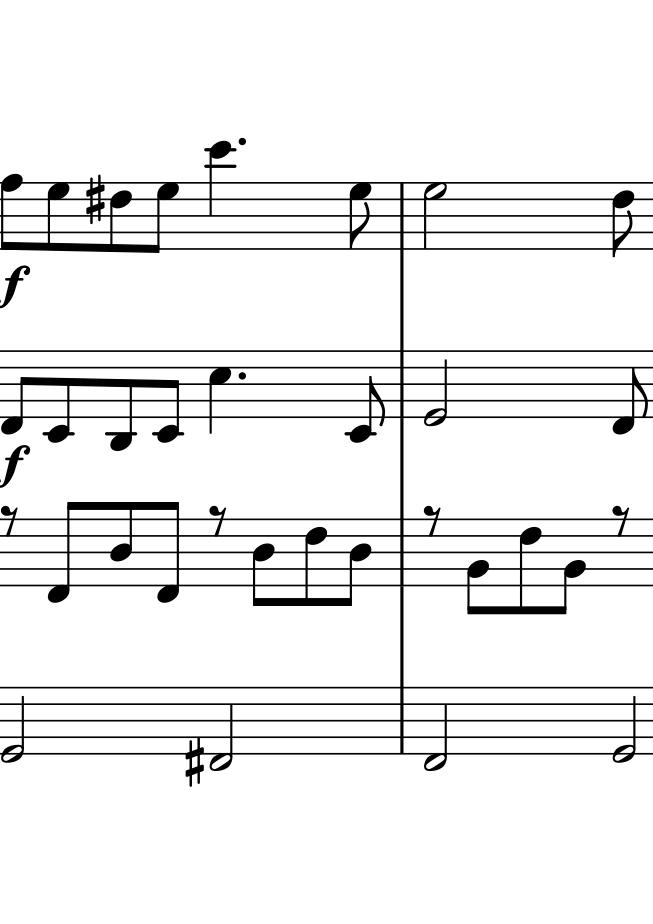2_-1: (423, 683, 451, 771), (208, 683, 235, 773)
2_0: (420, 348, 450, 431), (612, 683, 639, 766), (1, 683, 27, 764)
2_7: (422, 179, 449, 252)
4_12: (205, 140, 236, 252)
4_5: (206, 347, 233, 438)
8_-1: (43, 499, 87, 604), (607, 348, 648, 438), (154, 499, 182, 607), (1, 347, 32, 434)
8_-2: (342, 348, 388, 445), (152, 347, 183, 447), (43, 347, 72, 446)
8_-3: (105, 347, 137, 453)
8_2: (557, 516, 588, 616), (465, 515, 491, 617)
8_4: (339, 515, 373, 609), (252, 517, 277, 608), (109, 500, 135, 585)
8_6: (515, 517, 544, 617), (300, 515, 327, 609), (105, 179, 133, 254), (610, 181, 635, 256)
8_7: (147, 180, 182, 255), (44, 179, 70, 254), (348, 181, 373, 251)
8_8: (1, 169, 25, 253)
Rests8: (3, 501, 26, 543), (609, 503, 632, 538), (423, 504, 447, 536), (207, 505, 228, 537)
Sharp: (180, 738, 205, 790), (82, 174, 106, 225)
Single_barline: (393, 518, 411, 586), (393, 349, 410, 418), (394, 182, 411, 250), (394, 687, 410, 755)
dot: (234, 368, 249, 384), (235, 136, 248, 150)
